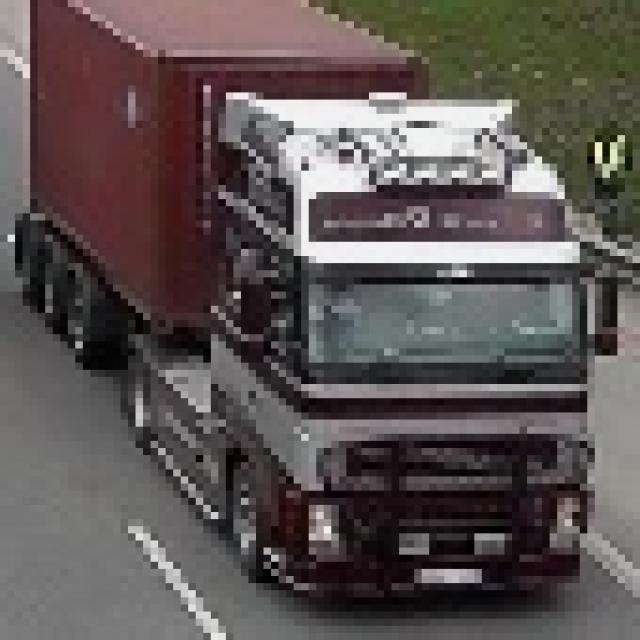TRUCK: (15, 0, 611, 603)
